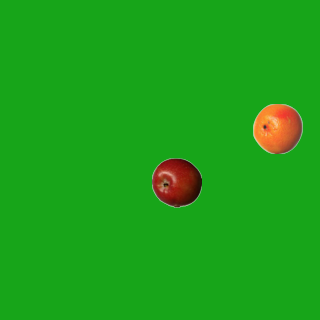Apple Braeburn: (151, 157, 201, 207)
Grapefruit Pink: (252, 103, 302, 153)
